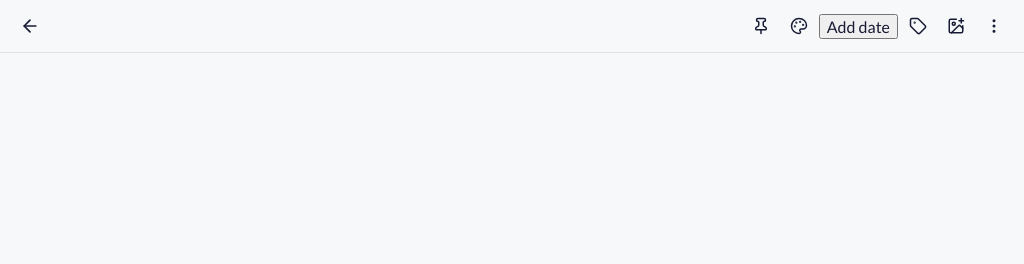
Test case: EditorToolbar › shows five actions and puts the rest in ⋮
Expected: the button named "Pin note" is shown, 743,8 -> 779,44
Expected: the button named "Change colour" is shown, 781,8 -> 817,44
Step 1. Click the button named "More actions" → (994, 26), box 976,8 -> 1012,44
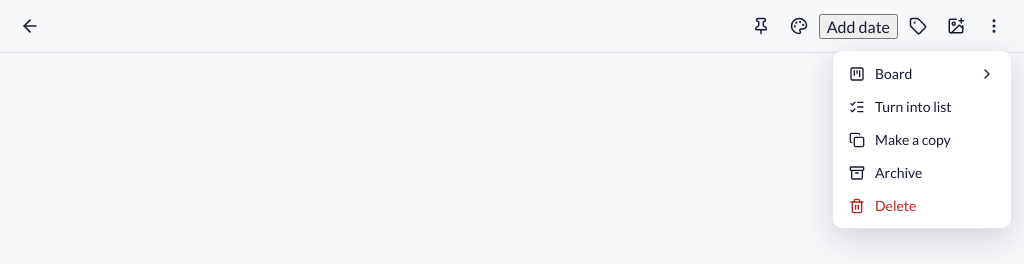
Expected: the menu item "Board" is shown, 849,65 -> 995,82
Expected: the menu item "Turn into list" is shown, 849,98 -> 952,115
Expected: the menu item "Make a copy" is shown, 849,131 -> 951,148
